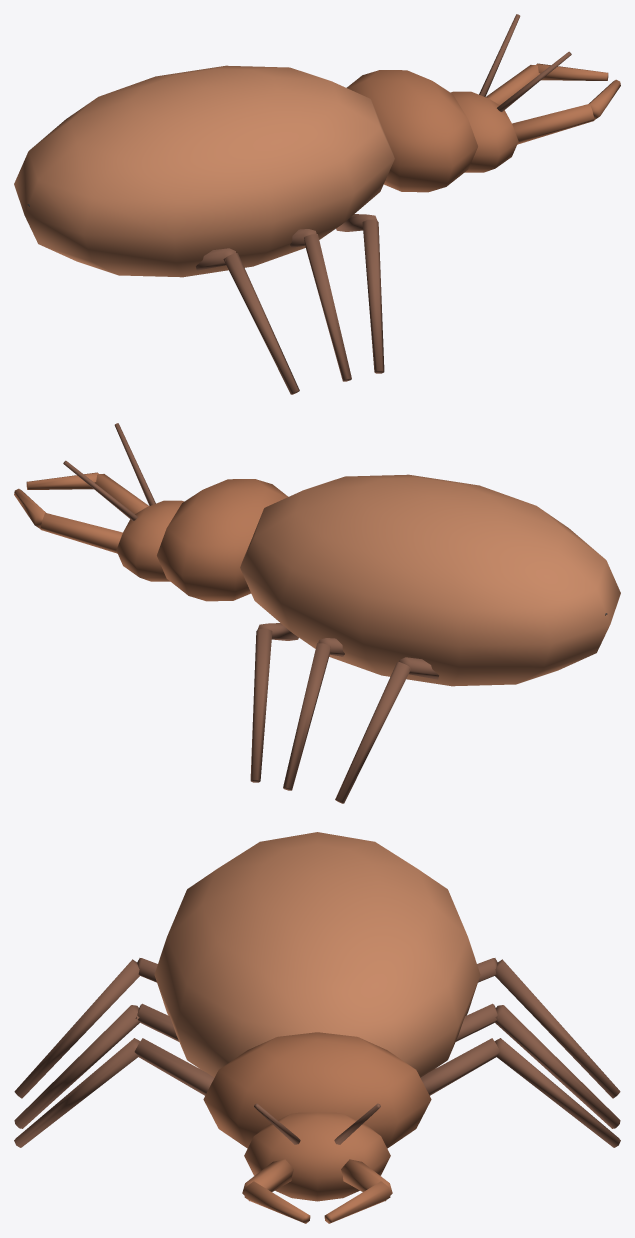
Rendered from cockscomb-stag-beetle.glb.
The picture shows the model from 3 angles, top to bottom: view 1: azimuth 30°, elevation 25°; view 2: azimuth 150°, elevation 25°; view 3: azimuth 270°, elevation 25°; orthographic projection. The views are drawn at different scales.
Visible parts, largest first — view 1: e; view 2: e; view 3: e.
Part boxes in pixels (box(x1,y1,x2,y2)): e: box(14, 14, 620, 394); e: box(14, 423, 620, 803); e: box(14, 832, 620, 1223).
Size of the model in its own units: 0.5166 by 0.1726 by 0.3909.
